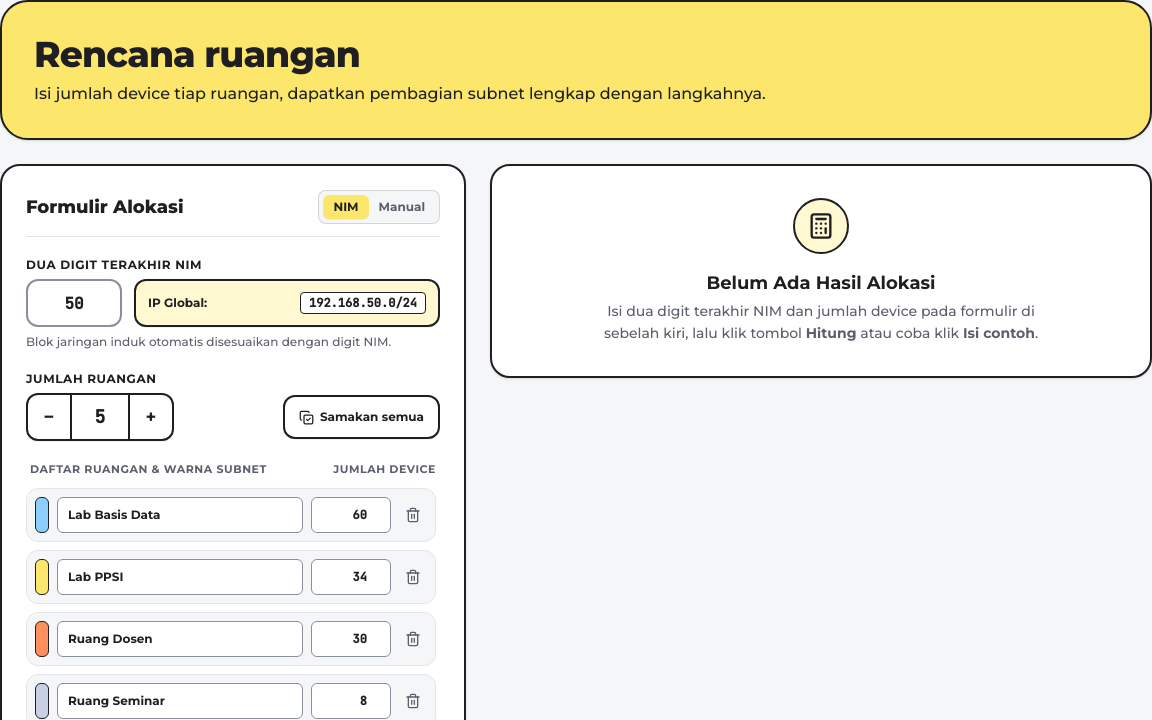
Test: Halaman Rencana Ruangan (/rencana) › mengubah preview IP Global saat dua digit NIM diganti (mis. 05 -> 192.168.5.0/24, 50 -> 192.168.50.0/24)
Expected: the text "192.168.50.0/24" is shown, [300,292,426,314]
# Ubah ke 05
In the field with placeholder "50": (74, 303) [26,279,122,327], type "05"
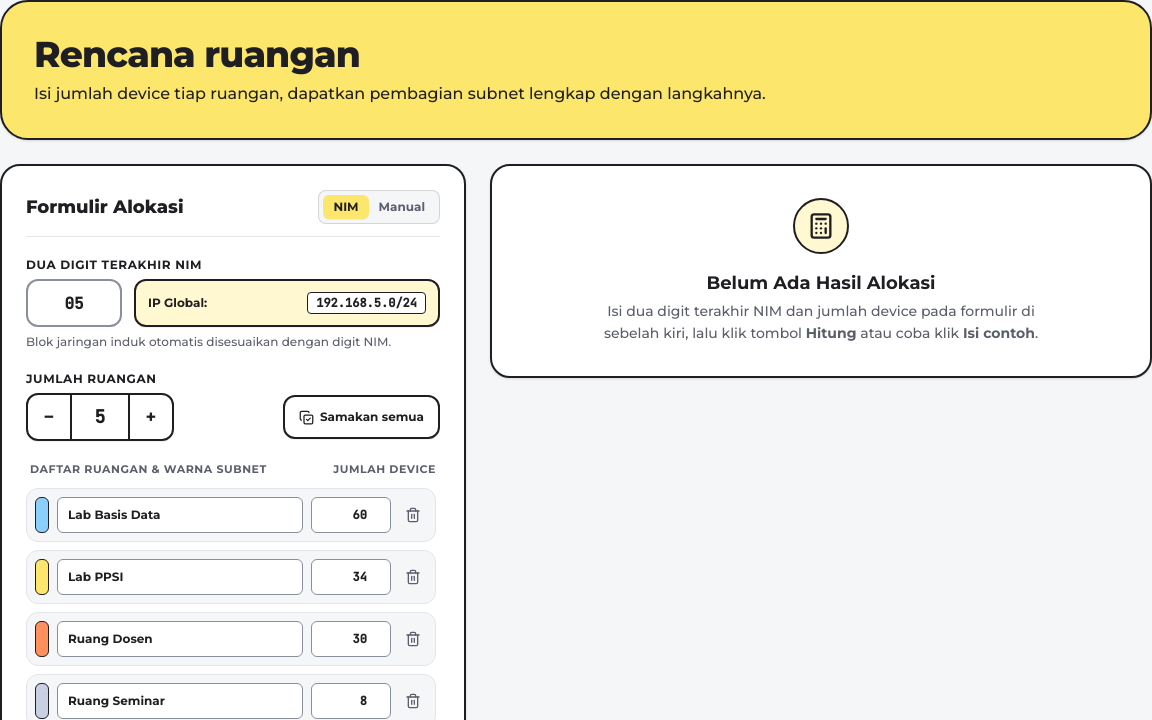
Expected: the text "192.168.5.0/24" is shown, [307,292,426,314]
# Ubah ke 00
Replace the text in the field with placeholder "50" with "00": (74, 303) [26,279,122,327]
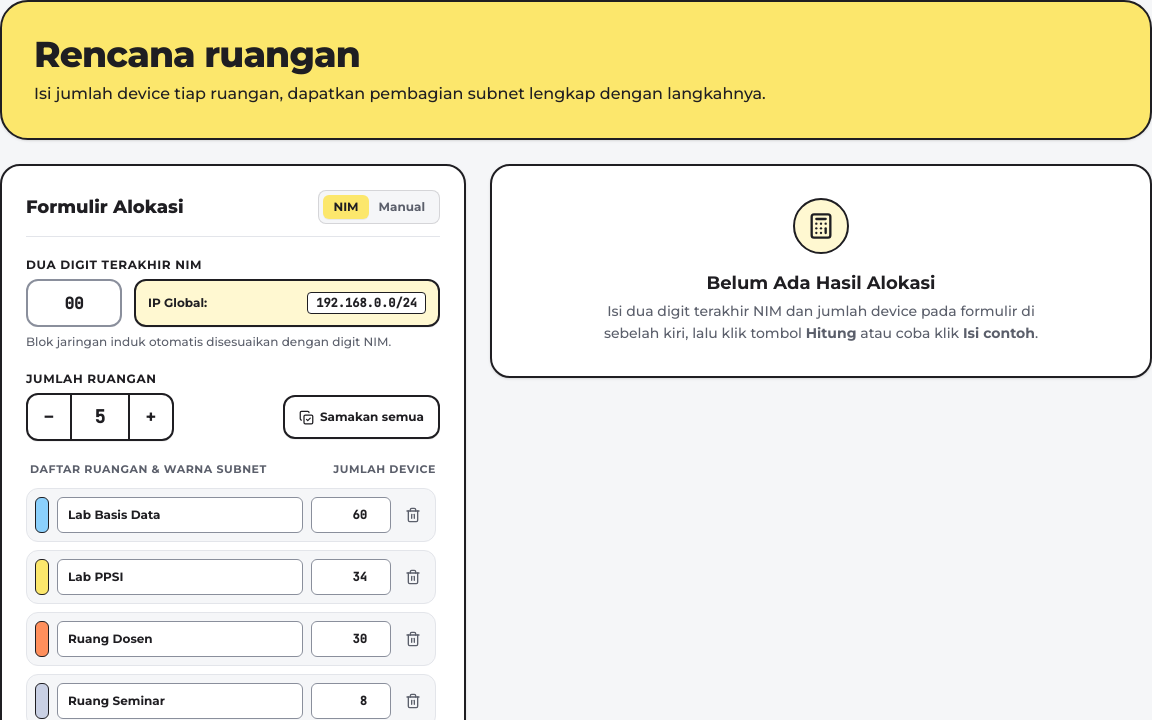
Expected: the text "192.168.0.0/24" is shown, [307,292,426,314]
